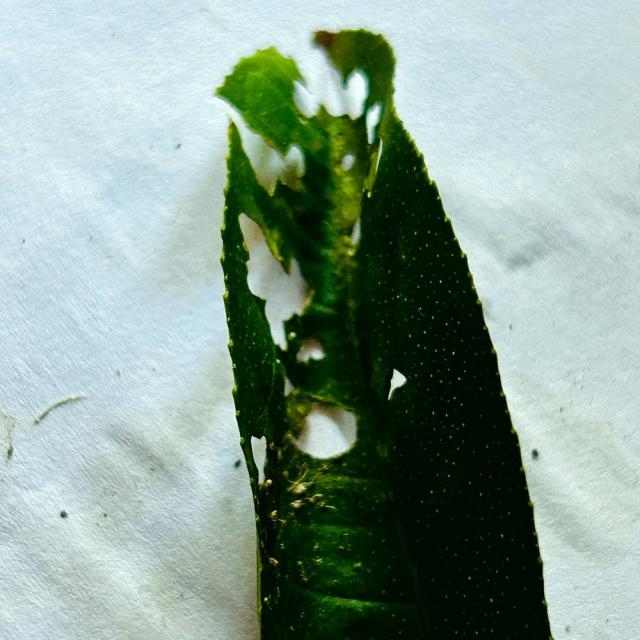Deficiency Leaf: (239, 214, 310, 349), (225, 107, 302, 198), (294, 407, 357, 459), (239, 214, 275, 266), (344, 70, 369, 117), (292, 80, 317, 117), (364, 145, 381, 187), (250, 434, 267, 473), (297, 343, 324, 362), (341, 153, 356, 172), (351, 220, 362, 243), (346, 249, 354, 257)
Lemon: (218, 30, 551, 639)
